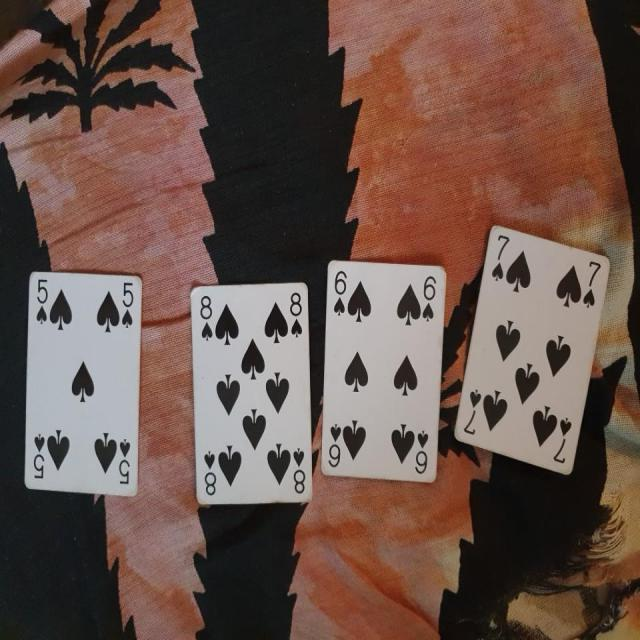5 of spades: (22, 270, 144, 495)
6 of spades: (318, 250, 450, 496)
7 of spades: (454, 217, 612, 492)
8 of spades: (184, 271, 314, 514)
